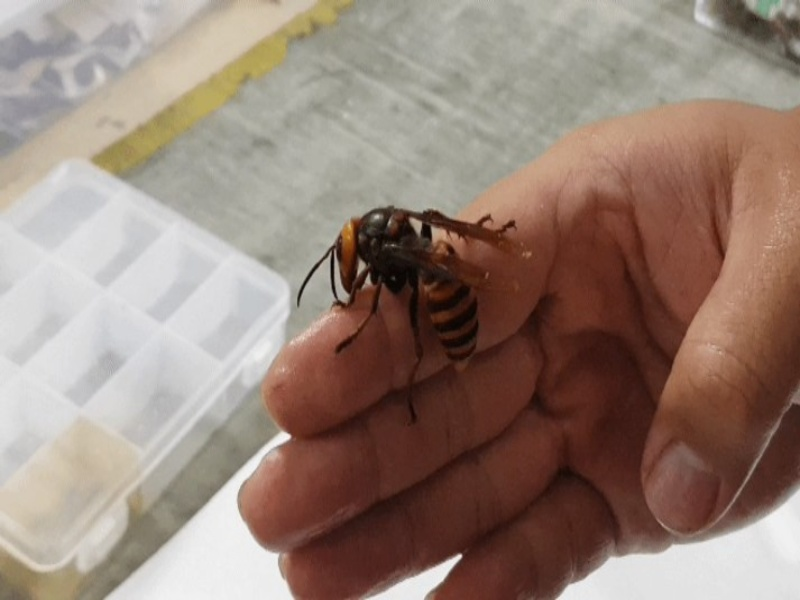asian_giant_hornet: (296, 194, 484, 376)
